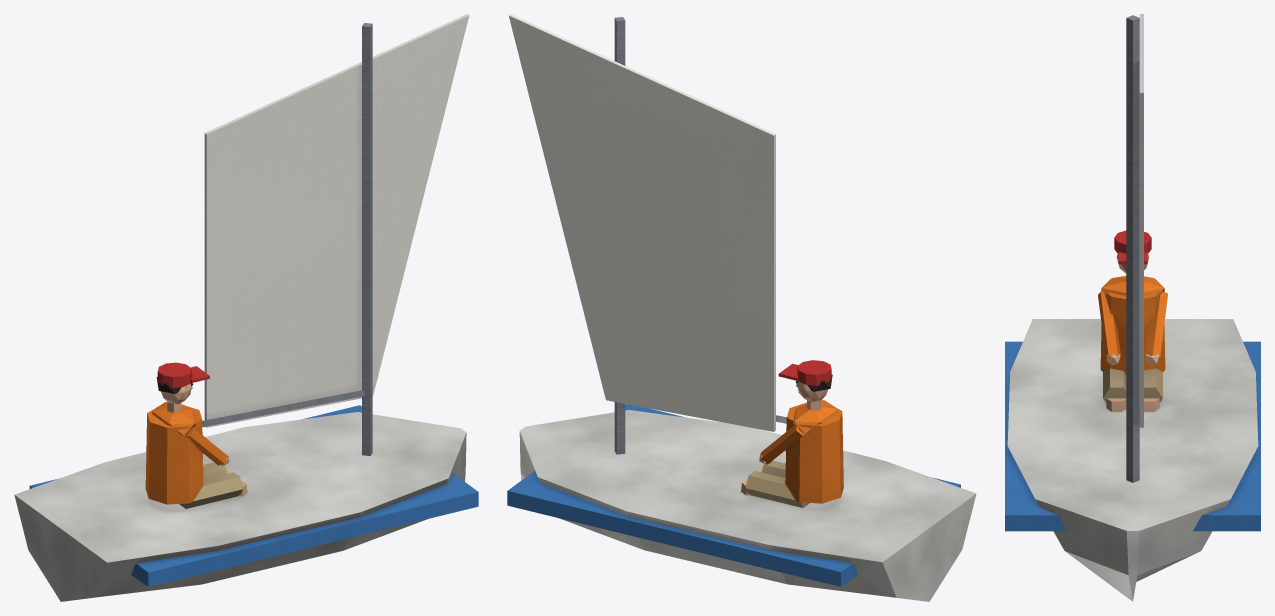
Rendered from jolle_tex.glb.
The picture shows the model from 3 angles, left to right: view 1: azimuth 30°, elevation 25°; view 2: azimuth 150°, elevation 25°; view 3: azimuth 270°, elevation 25°; orthographic projection. The views are drawn at different scales.
Parts seen in each view (by area): view 1: jolle; view 2: jolle; view 3: jolle.
Boxes of the visible parts, <box> form: jolle: <box>14,14,478,601</box>; jolle: <box>507,14,976,601</box>; jolle: <box>1005,14,1260,601</box>.
Size of the model in its own units: 2.35 by 2.8 by 1.17.
Materials: 11 (9 with a texture image).
